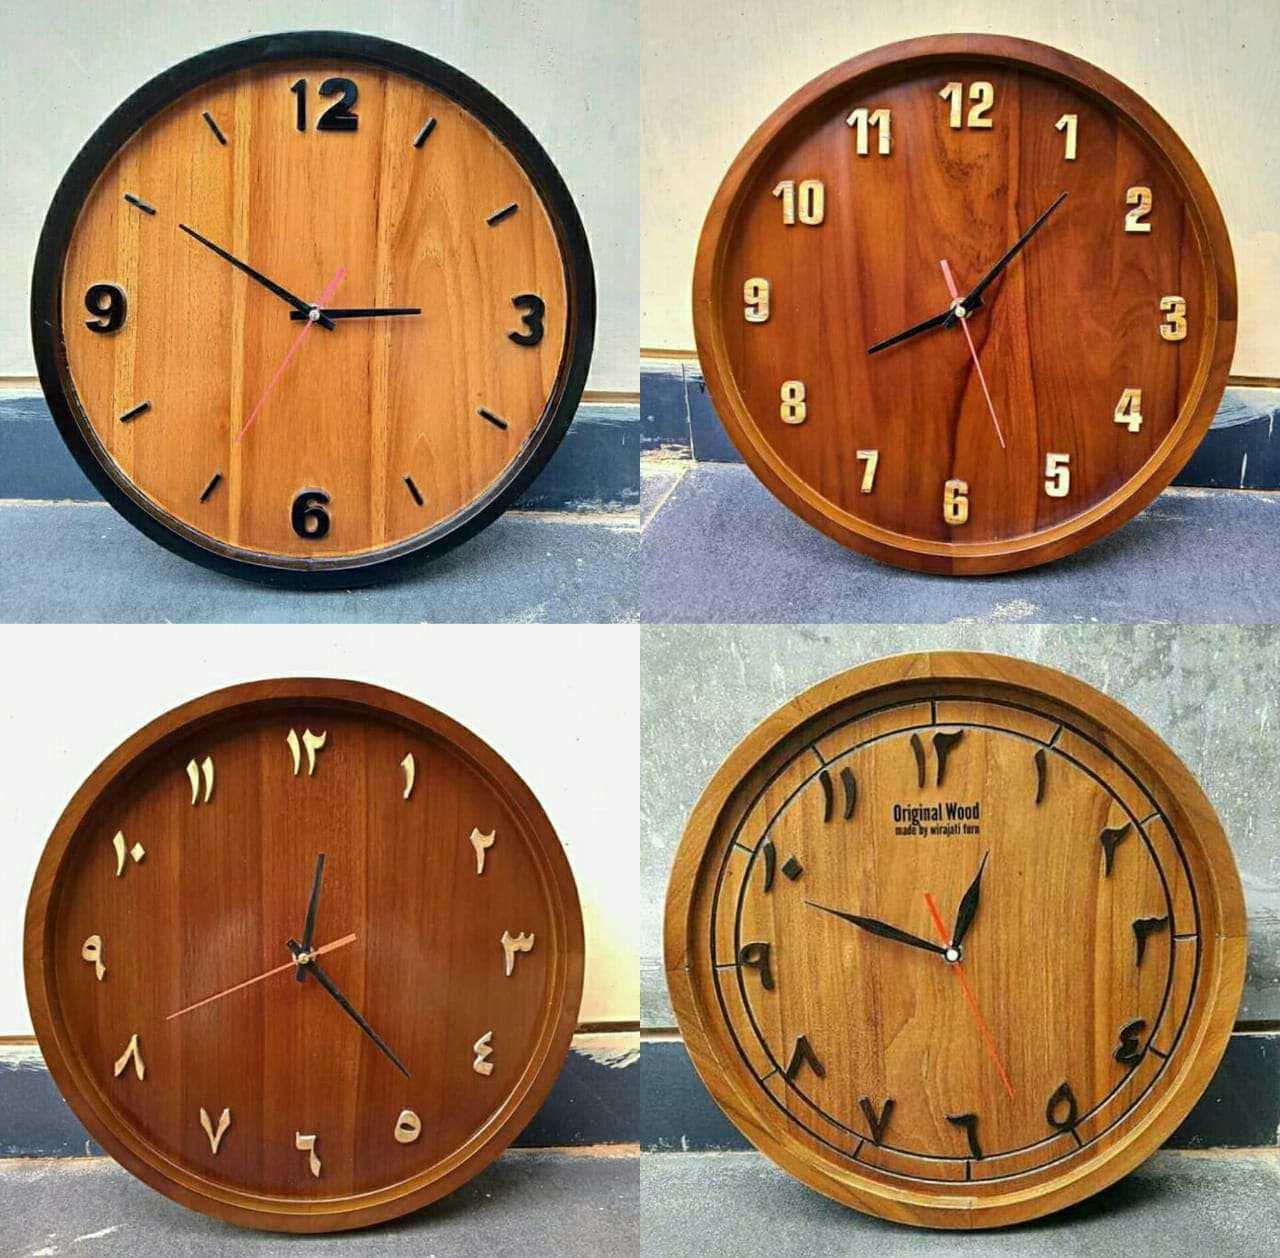jam dinding: (651, 647, 1254, 1227), (10, 55, 607, 598), (694, 29, 1277, 569), (26, 691, 565, 1210)
